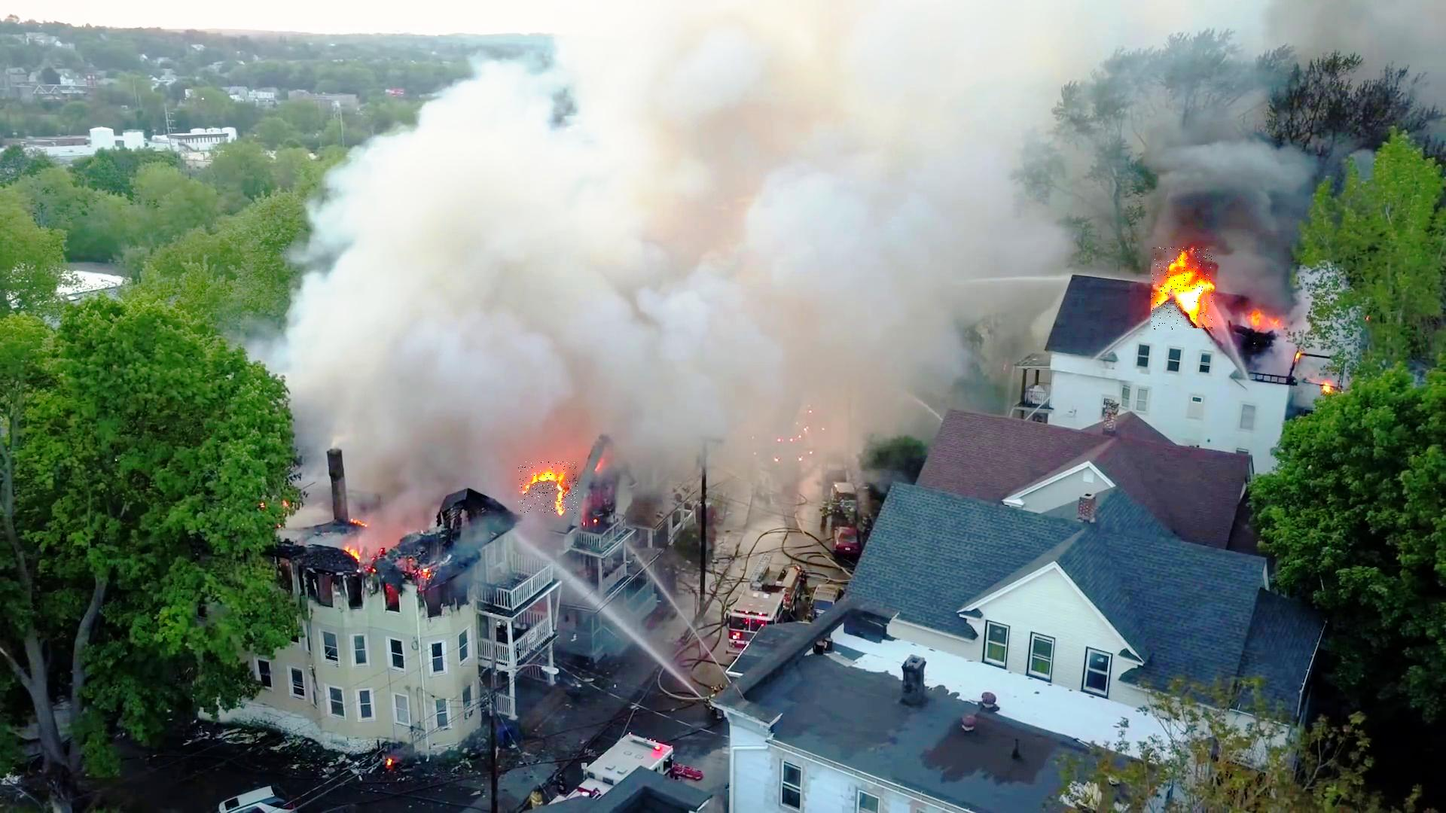fire: (1151, 247, 1213, 330), (518, 462, 578, 514)
